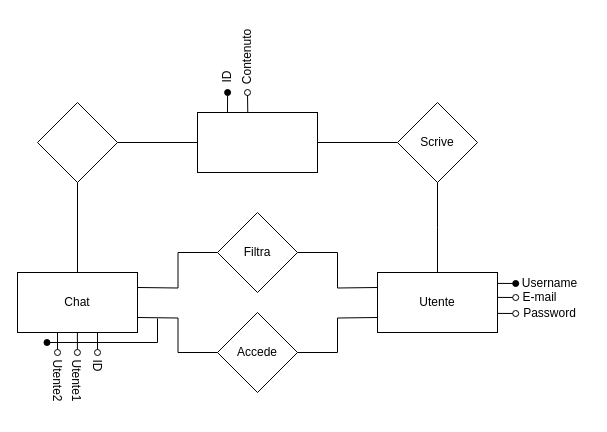
This 607x432 diagram has some shape labels left out. The centre of each missing label's shape, as x and y in pixels:
"Messaggio" belongs at pixel 257 142.
"Salva" belongs at pixel 77 142.
